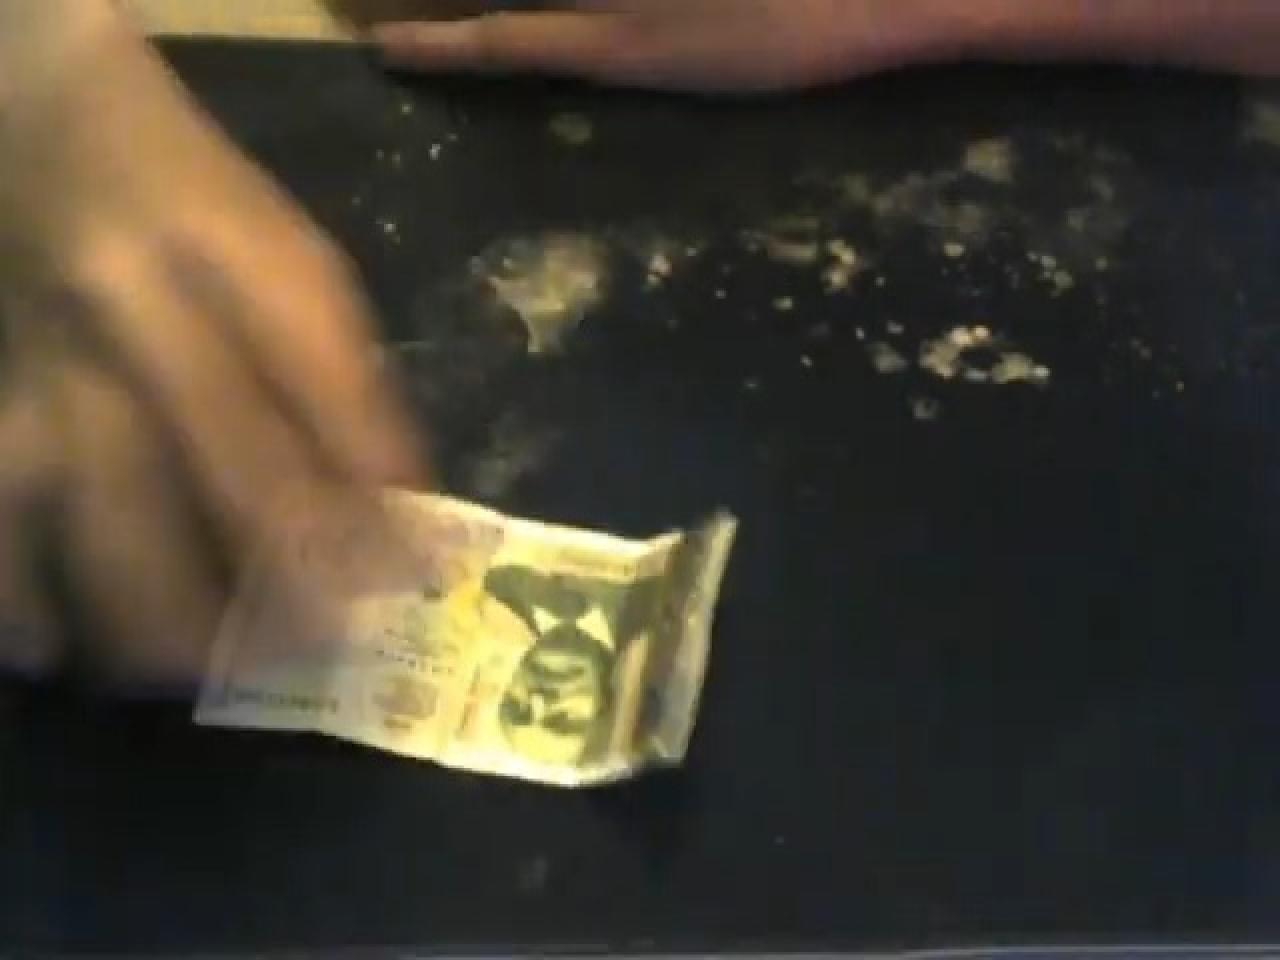10leva: (192, 491, 736, 792)
